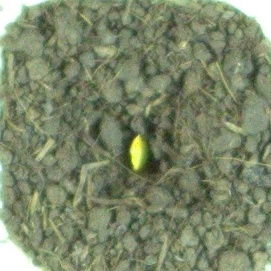chilli seed: (127, 132, 152, 171)
